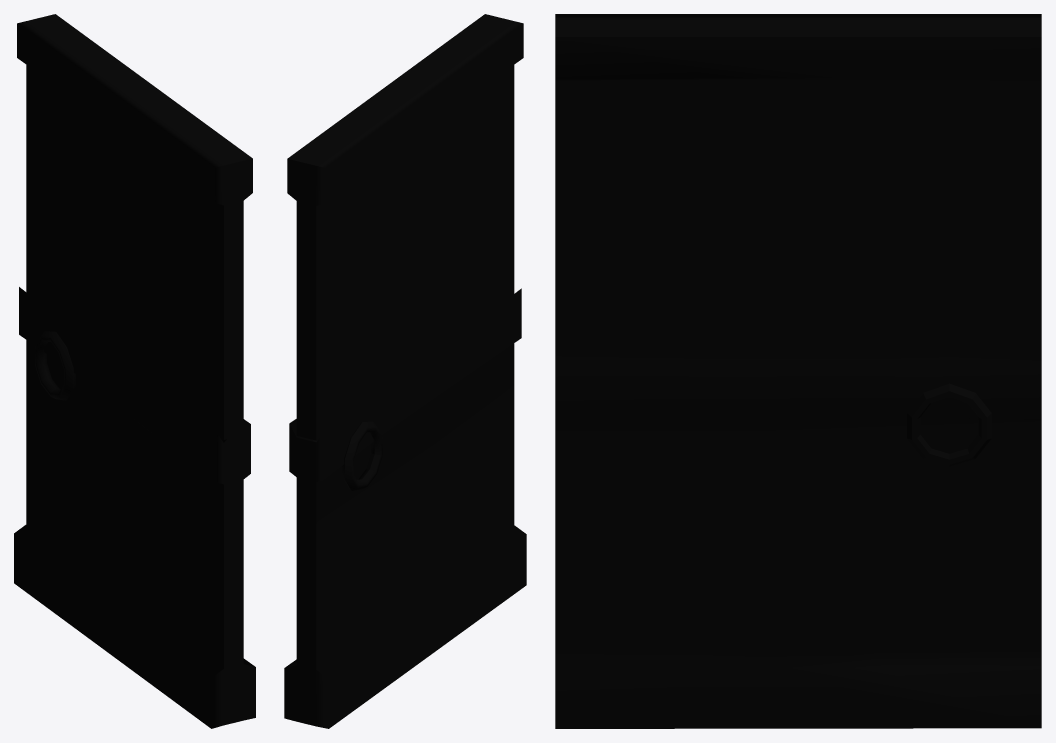
Rendered from door@close.FBX.
3 views of the same model, side by side, from view 1: azimuth 30°, elevation 25°; view 2: azimuth 150°, elevation 25°; view 3: azimuth 270°, elevation 25° (orthographic). The views are drawn at different scales.
Visible parts, largest first — view 1: door_A; view 2: door_A; view 3: door_A, Point002.
Boxes of the visible parts, bbox=[...] form: door_A: bbox=[14, 14, 255, 728]; door_A: bbox=[284, 14, 526, 728]; door_A: bbox=[555, 14, 1041, 728]; Point002: bbox=[907, 383, 991, 466].
Bounding box in the file's own units: 0.1497 × 1.69 × 1.08.
Materials: 1 (1 with a texture image).
